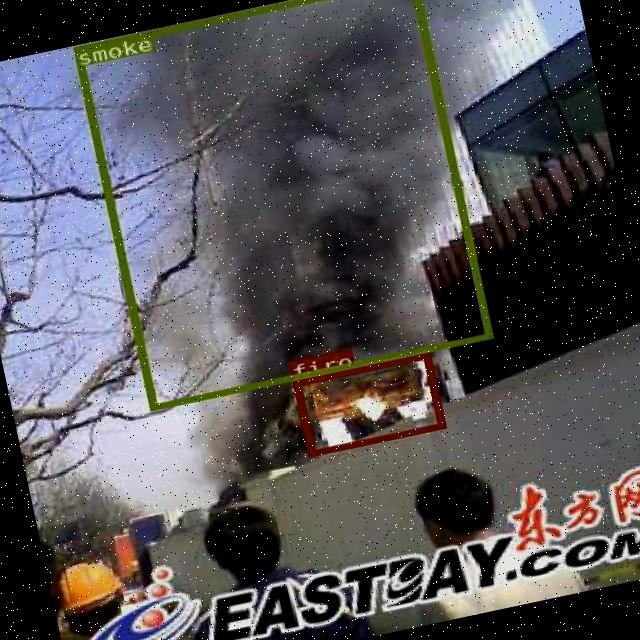fire: (291, 352, 444, 456)
smoke: (72, 0, 491, 409)
